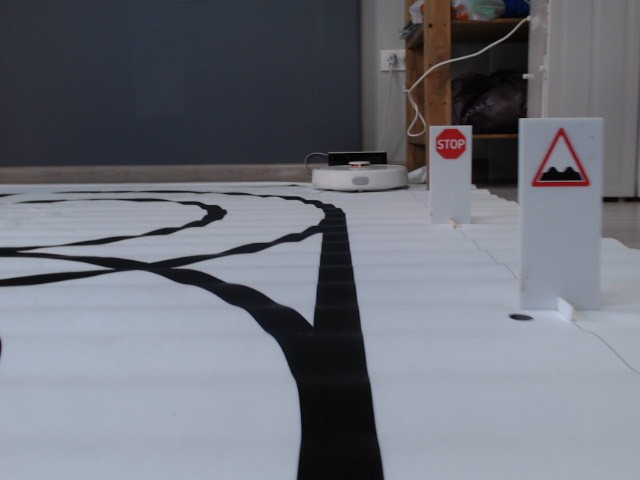Nerov: (532, 126, 594, 191)
